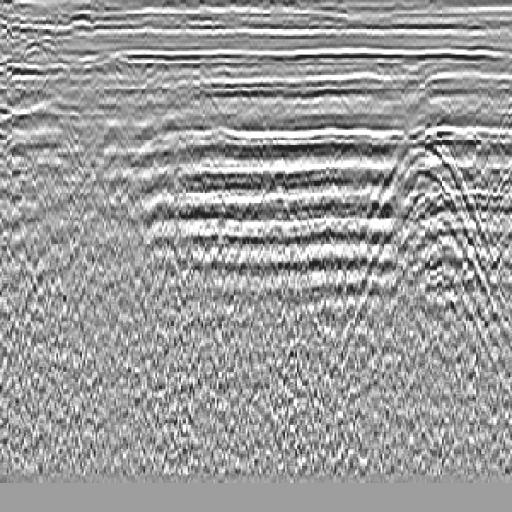non-metallic: (320, 103, 512, 392)
